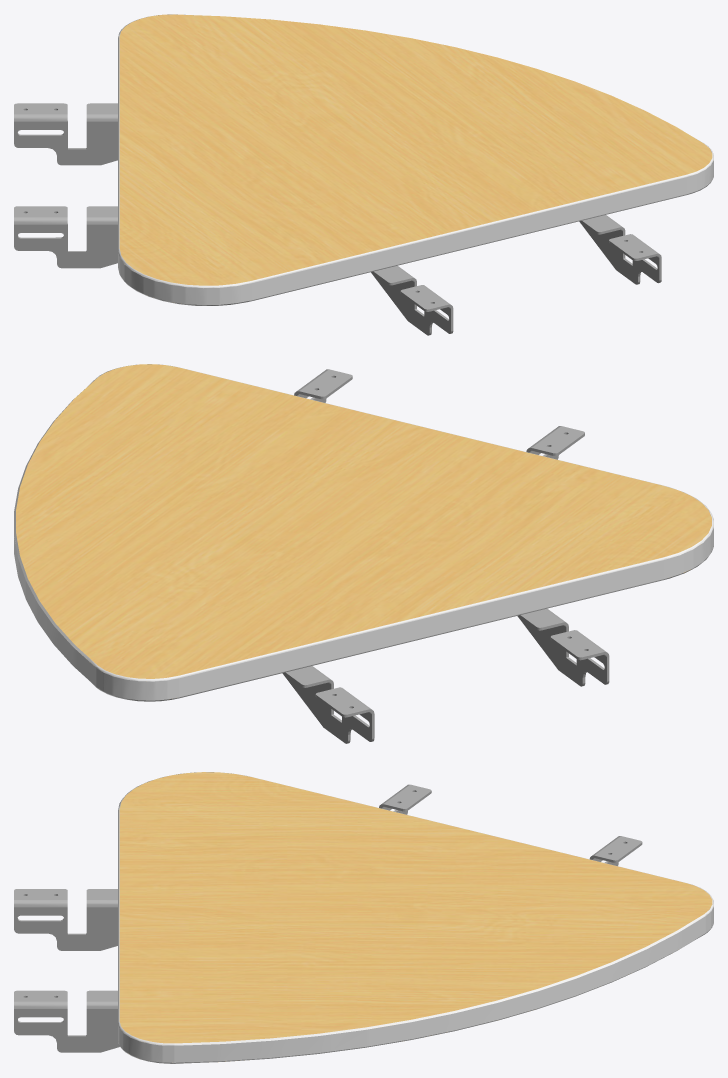
The model's file is HSU060000_120.glb.
The picture shows the model from 3 angles, top to bottom: view 1: azimuth 30°, elevation 25°; view 2: azimuth 150°, elevation 25°; view 3: azimuth 270°, elevation 25°; orthographic projection. The views are drawn at different scales.
Visible parts, largest first — view 1: 4 (×2), 14, 13, 15, 16; view 2: 4 (×2), 13, 14, 15, 16; view 3: 4 (×2), 15, 16, 13, 14.
Part boxes in pixels (bbox=[...]): 4 (×2): bbox=[118, 14, 713, 305]; 14: bbox=[14, 103, 117, 165]; 13: bbox=[14, 206, 117, 268]; 15: bbox=[579, 215, 661, 284]; 16: bbox=[371, 265, 453, 335]; 4 (×2): bbox=[14, 364, 713, 701]; 13: bbox=[517, 608, 609, 686]; 14: bbox=[282, 666, 374, 743]; 15: bbox=[294, 369, 352, 402]; 16: bbox=[526, 426, 584, 459]; 4 (×2): bbox=[118, 772, 713, 1063]; 15: bbox=[14, 990, 119, 1052]; 16: bbox=[14, 889, 117, 950]; 13: bbox=[379, 784, 431, 814]; 14: bbox=[589, 836, 642, 865].
Bounding box in the file's own units: 0.7424 × 0.085 × 0.7812.
3 materials, 1 textured.
